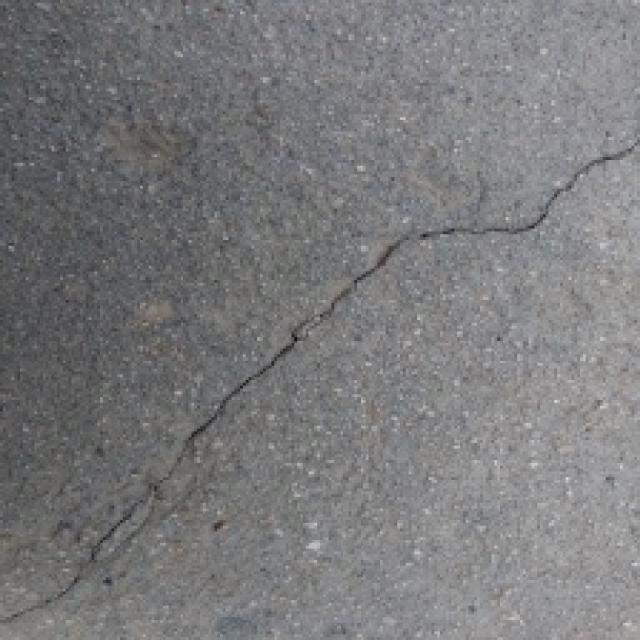SurfaceCrack: (20, 132, 630, 632)
